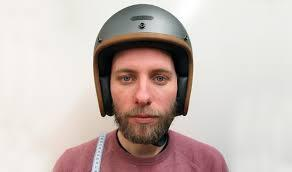helmet: (93, 4, 194, 141)
